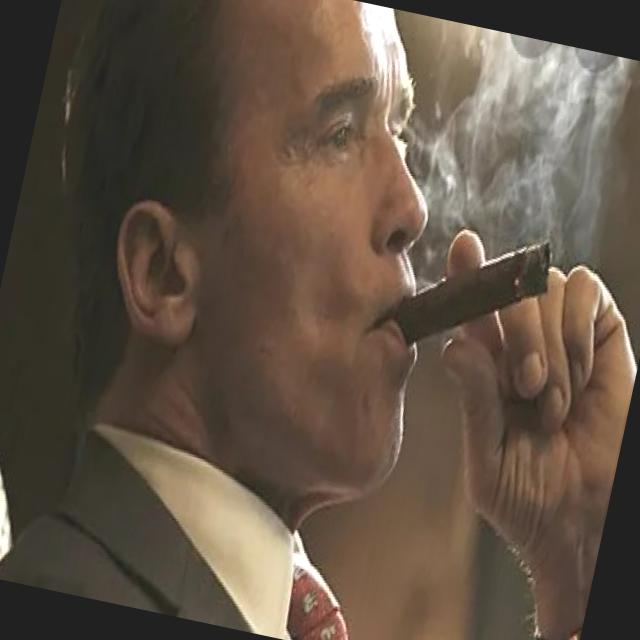cigarette: (389, 212, 560, 379)
